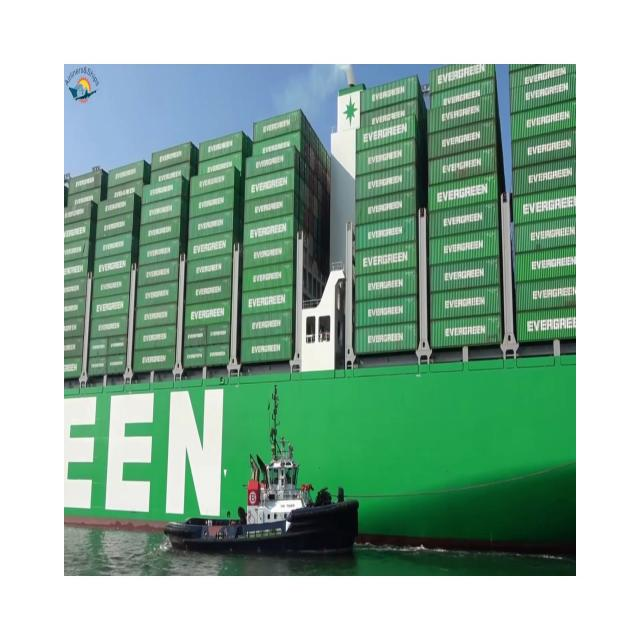OCR: (66, 378, 235, 535)
